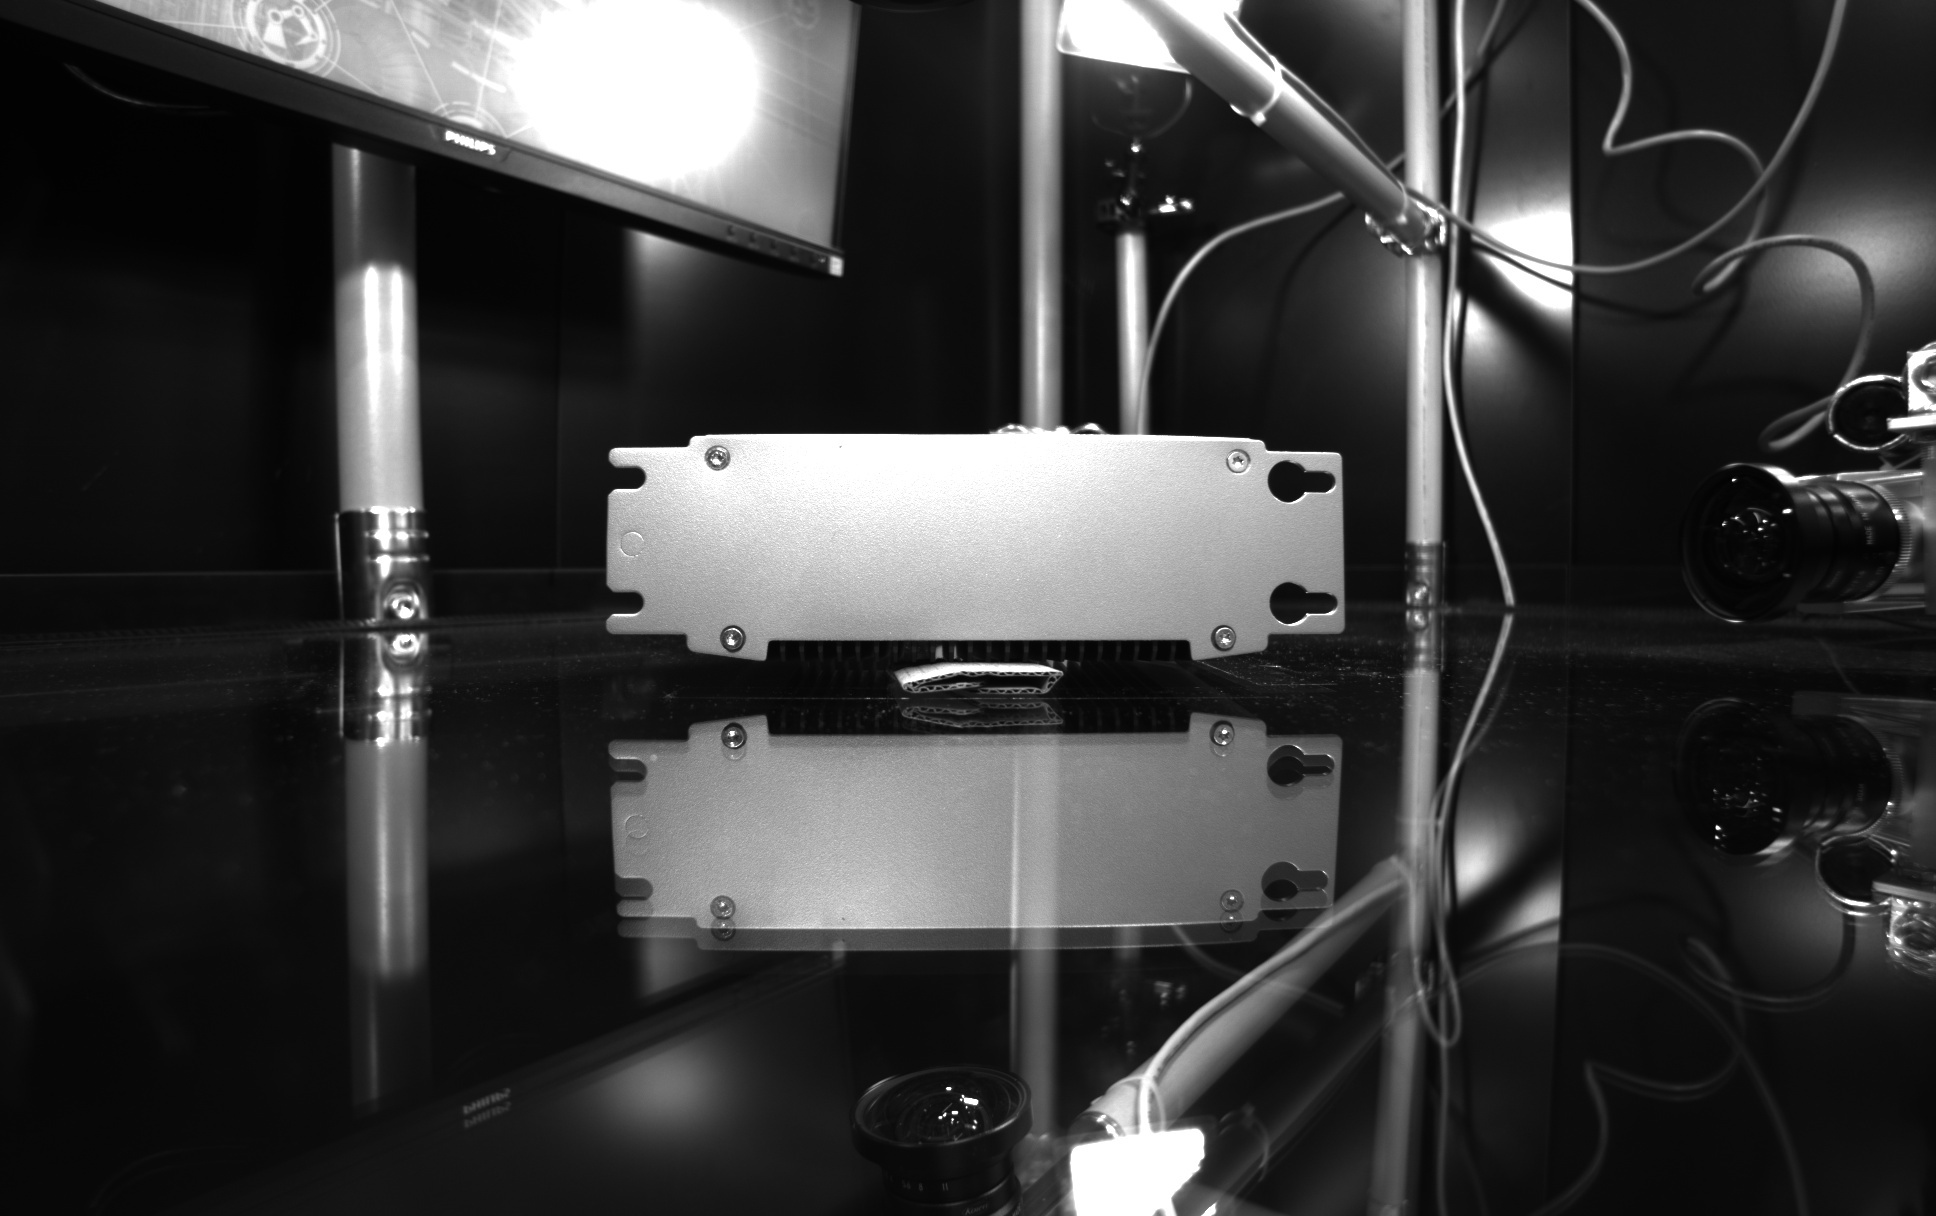CamBack: (573, 405, 1376, 664)
Schraube: (1217, 443, 1255, 482), (699, 438, 737, 476)
Schraube_gespiegelt: (705, 888, 742, 950), (1215, 883, 1250, 946), (1203, 714, 1241, 771), (714, 717, 754, 771)
Schraube_halb: (713, 618, 752, 657), (1208, 621, 1245, 658)
